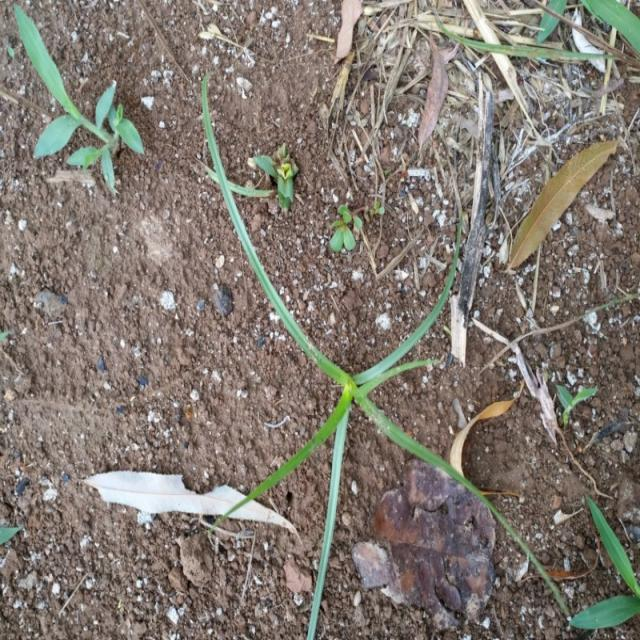sedge: (206, 213, 467, 591)
